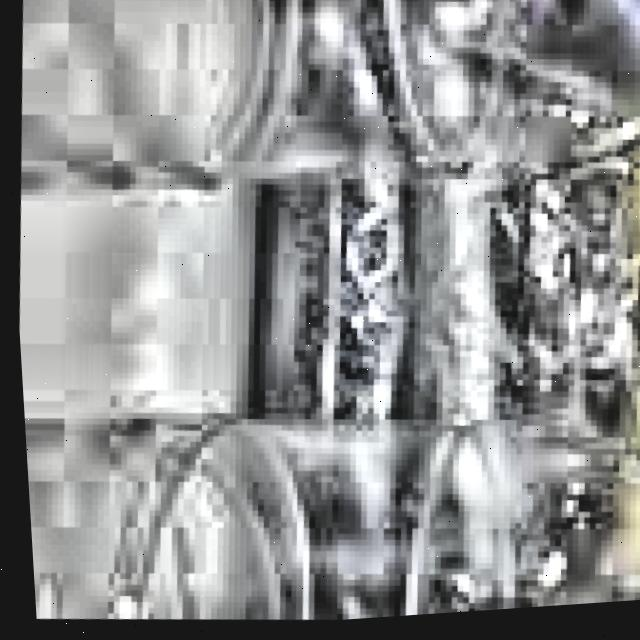plastic: (18, 344, 640, 640), (8, 0, 640, 234)
